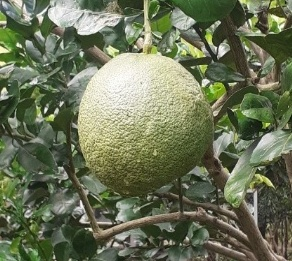Buoi: (53, 46, 211, 197)
